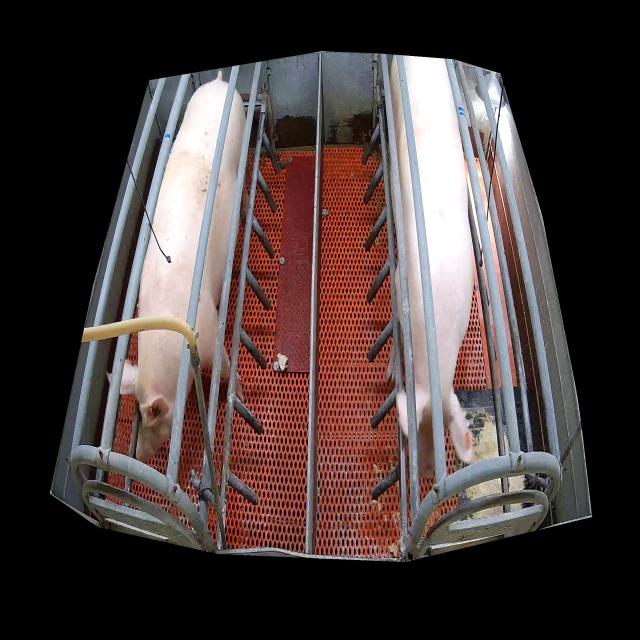pig: (120, 80, 249, 464), (386, 57, 473, 480)
